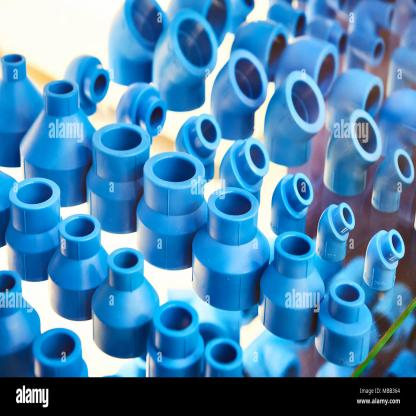PVC: (0, 2, 414, 377)
